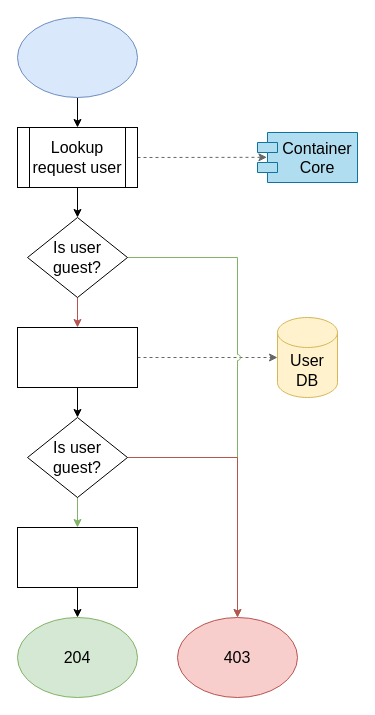
Some shapes in this 375 by 715 pixel diagram are drawn without their labels. The centre of each missing label's shape, as x and y in pixels:
"Check if target user is guest" belongs at [77,357].
"Start" belongs at [77,57].
"Update user links with new user ID" belongs at [77,557].
